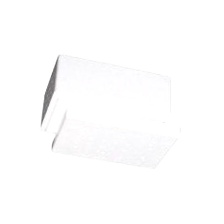foam_box: (33, 49, 187, 177)
